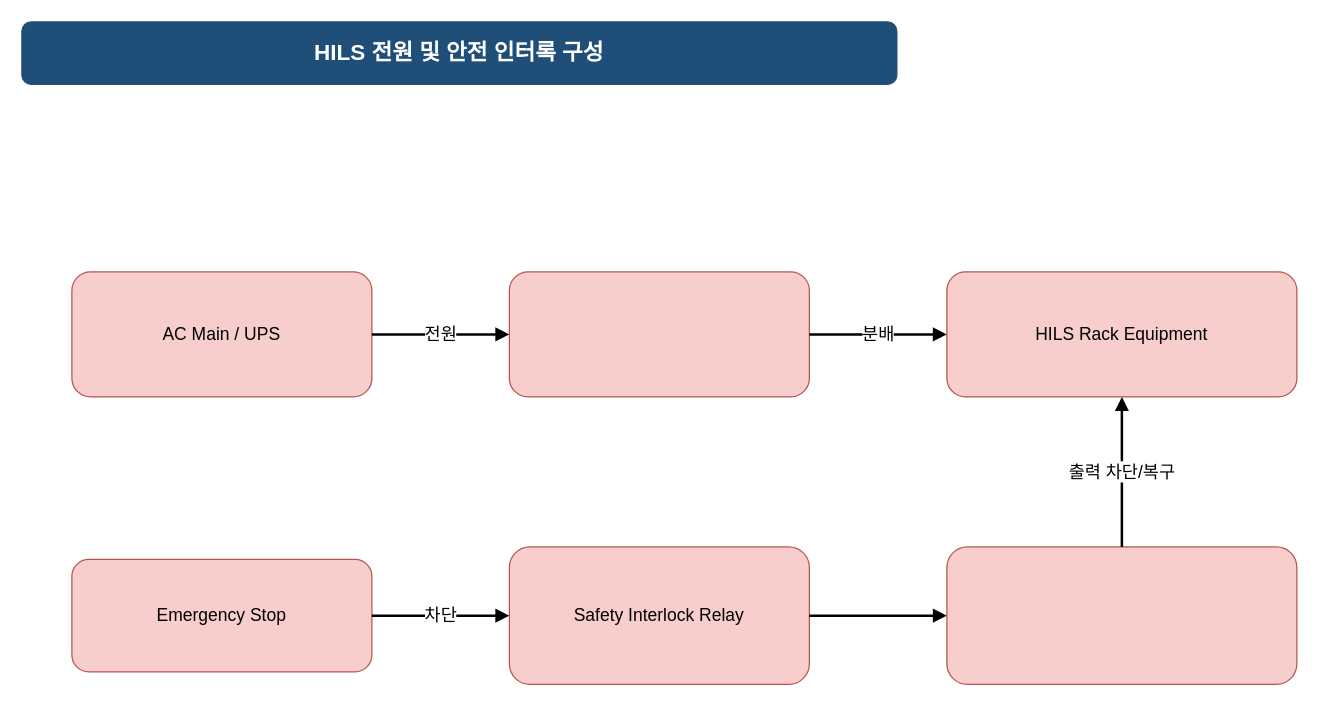
The diagram is 1319 pixels wide and 706 high, and some of its shapes have lost their labels. Here are the shapes that lost their labels. From the top down, the centre of each, then its label:
[658,334]: Managed PDU
[1121,615]: Output Enable / Watchdog
